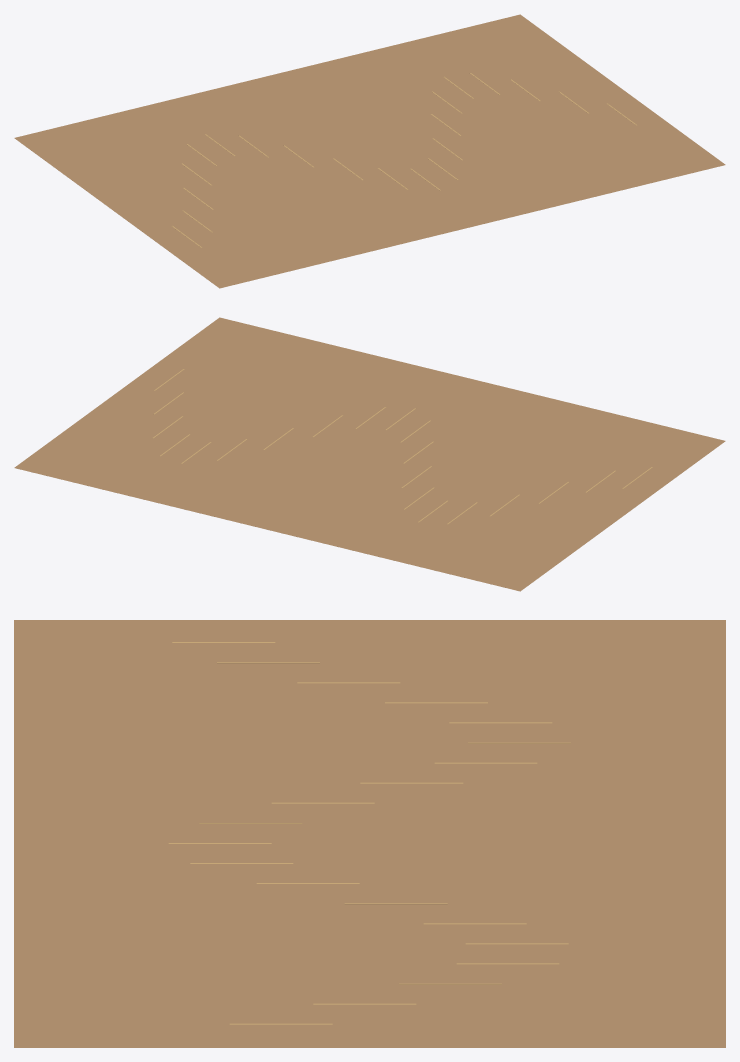
Rendered from 240_L118_L3_LayerReference.glb.
3 renders of one model, top to bottom at view 1: azimuth 30°, elevation 25°; view 2: azimuth 150°, elevation 25°; view 3: azimuth 270°, elevation 25°, orthographic. The views are drawn at different scales.
Visible parts, largest first — view 1: 0000__PSMAT__copper_dark; view 2: 0000__PSMAT__copper_dark; view 3: 0000__PSMAT__copper_dark.
Part boxes in pixels (box(x1,y1,x2,y2)): 0000__PSMAT__copper_dark: box(14, 14, 725, 288); 0000__PSMAT__copper_dark: box(14, 317, 725, 591); 0000__PSMAT__copper_dark: box(14, 620, 725, 1047).
Size of the model in its own units: 0.472 by 0.000554 by 0.332.
